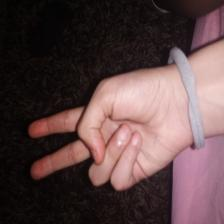two: (27, 81, 175, 193)
